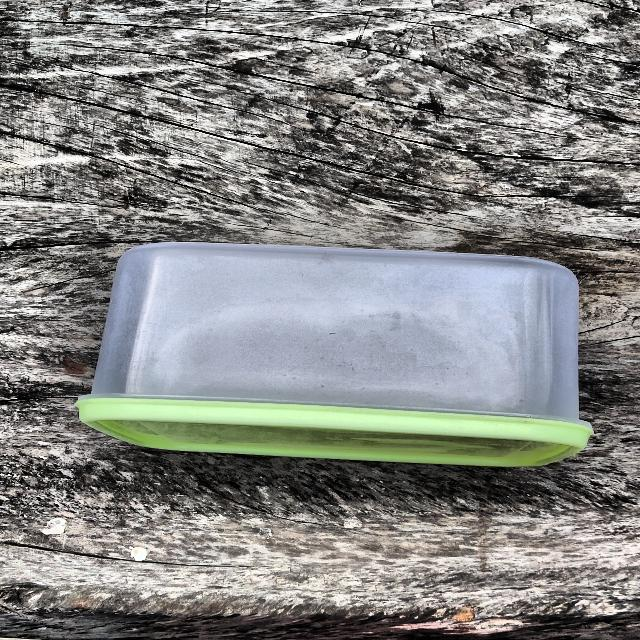plastic container: (49, 226, 629, 497)
